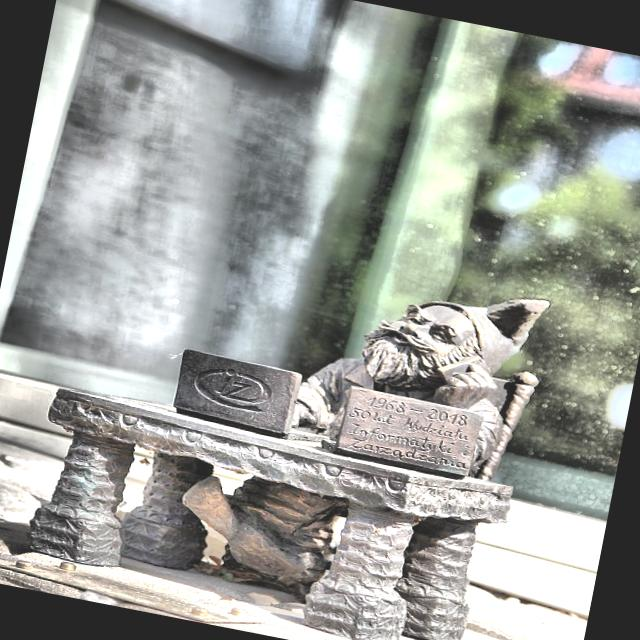WIZek: (28, 300, 547, 640)
